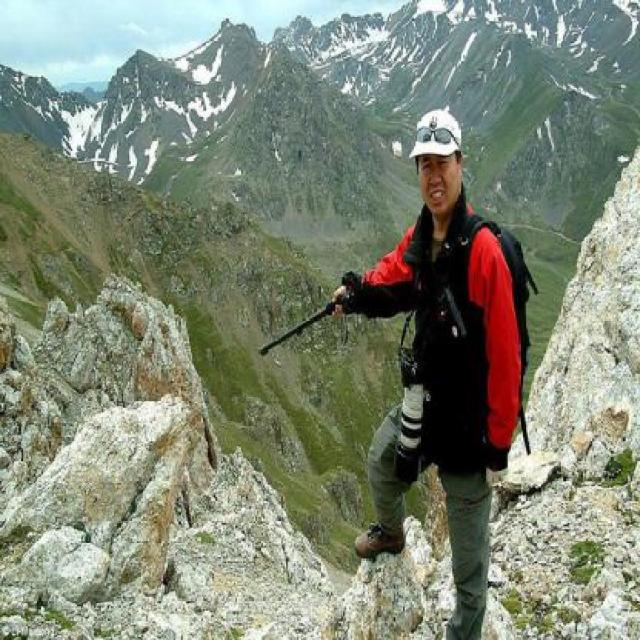Person: (379, 108, 487, 640)
